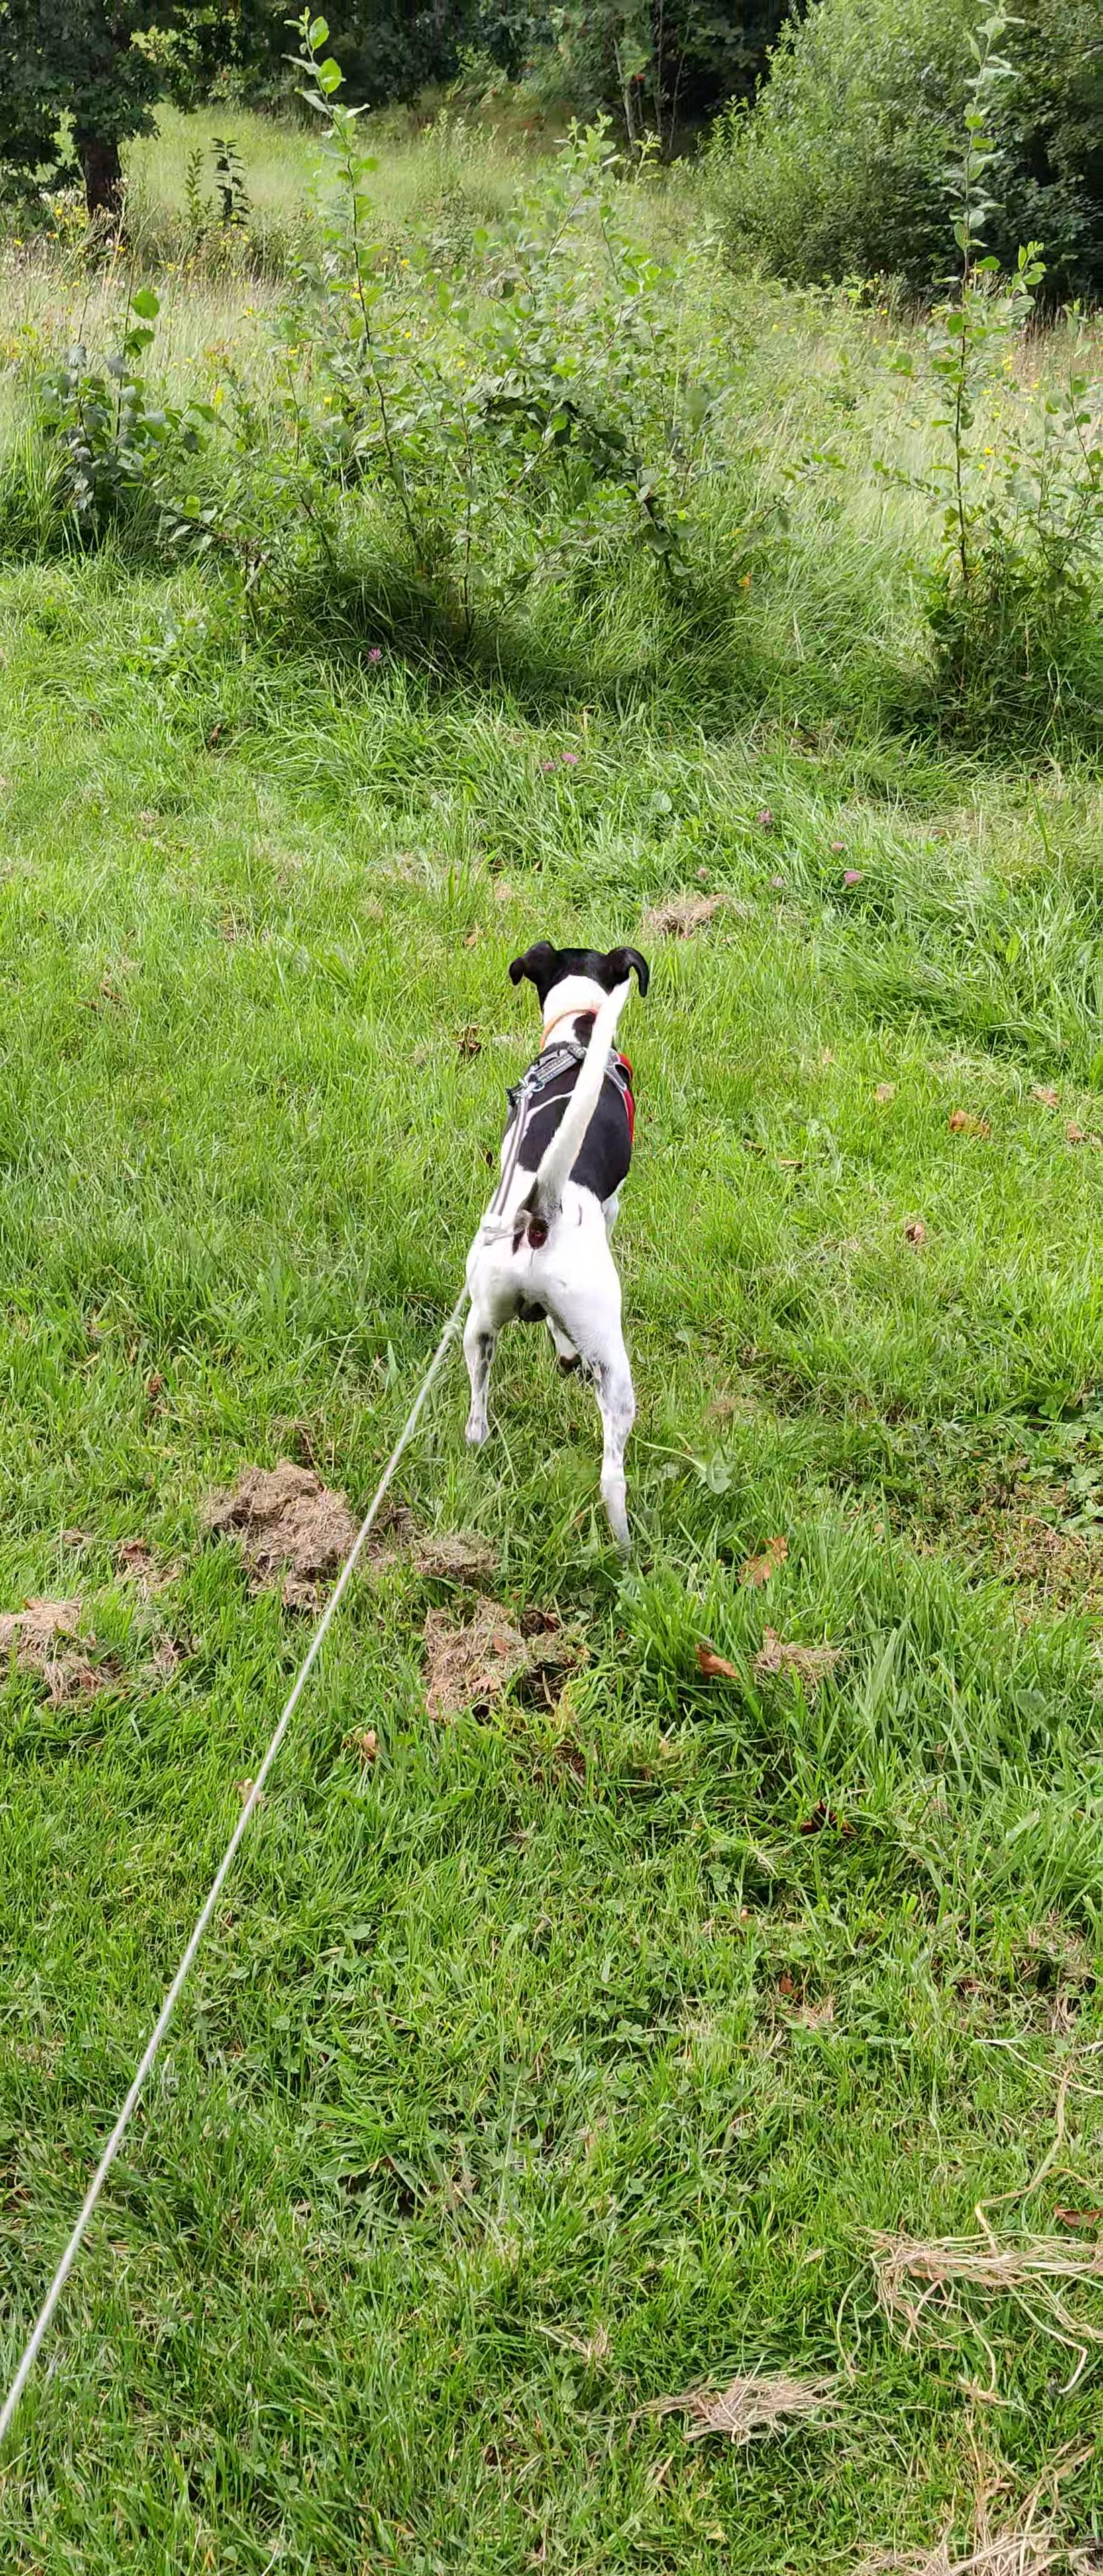Dog: (418, 915, 674, 1572)
